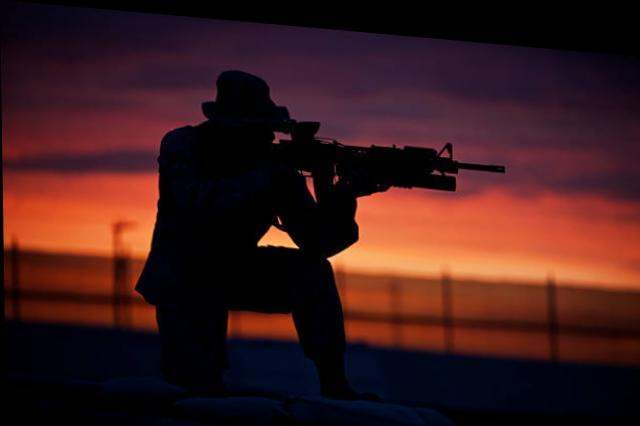other: (147, 68, 351, 347)
